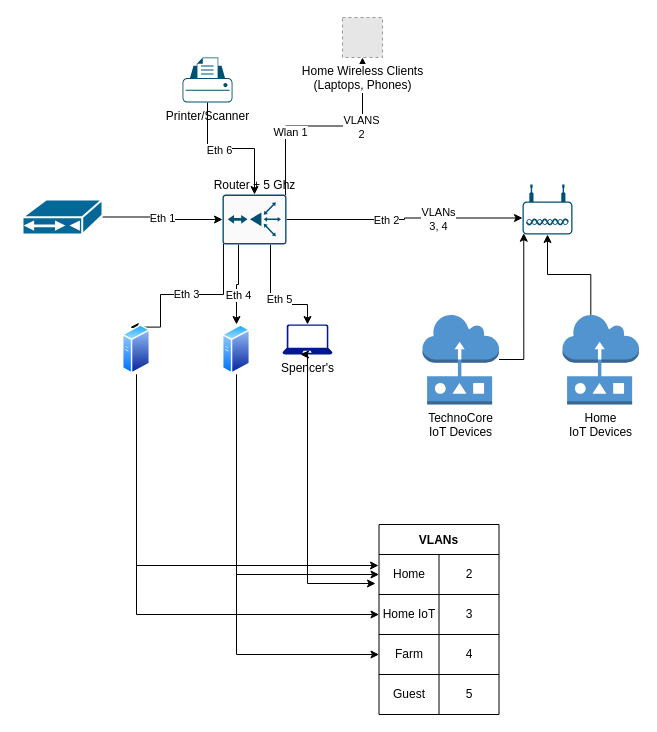
This 657x732 diagram has some shape labels left out. Grey dashed boxes stand in for pictures. The centre of each missing label's shape, as x and y in pixels:
"2.4 Ghz AP" belongs at (x=547, y=209).
"Comcast Modem" belongs at (x=62, y=216).
"Home Assistant" belongs at (x=136, y=349).
"TechnoCore" belongs at (x=236, y=349).
